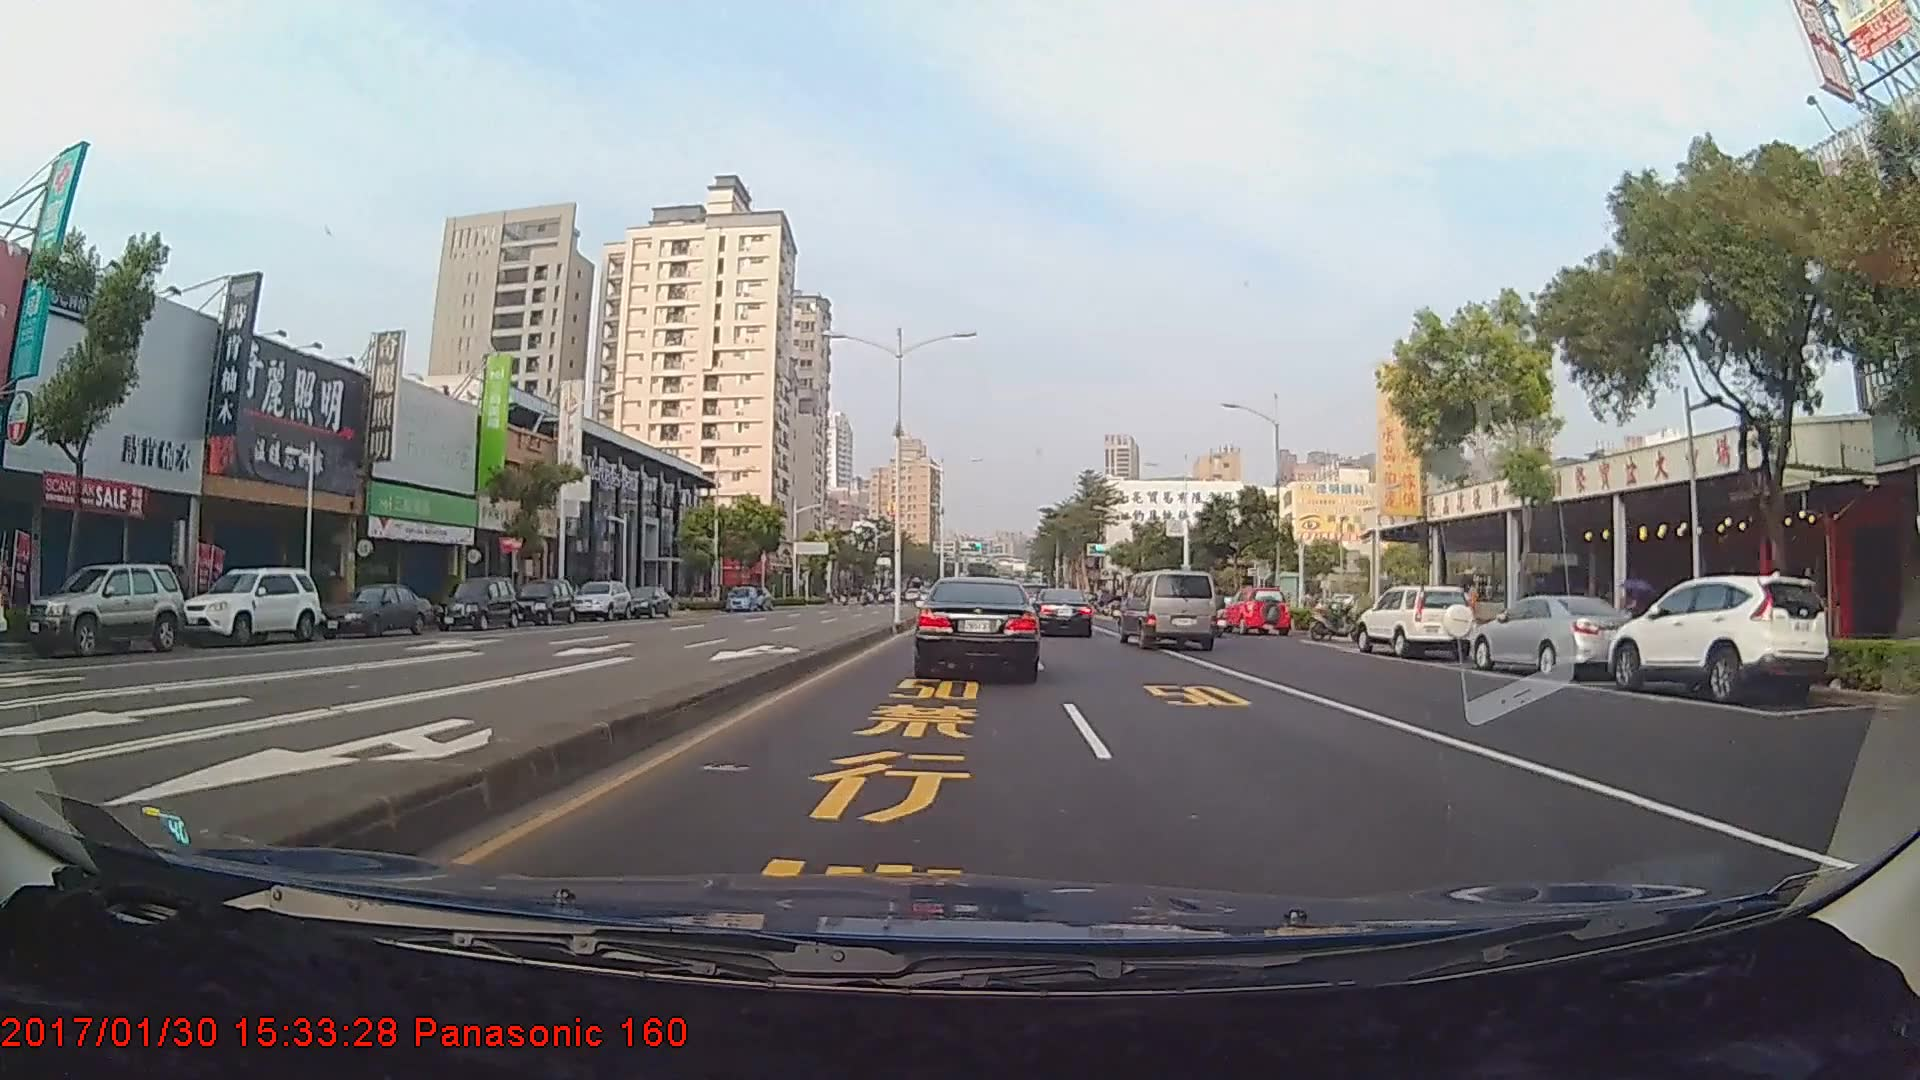vehicle: (1605, 568, 1853, 712), (22, 559, 185, 654), (1472, 591, 1636, 678), (914, 578, 1040, 683), (179, 563, 319, 644), (1356, 582, 1476, 657), (1120, 568, 1217, 650), (309, 579, 434, 638), (430, 574, 517, 626), (1221, 587, 1288, 636), (1031, 587, 1095, 638), (509, 578, 574, 626), (568, 579, 632, 621), (622, 584, 670, 616), (723, 584, 756, 612)
